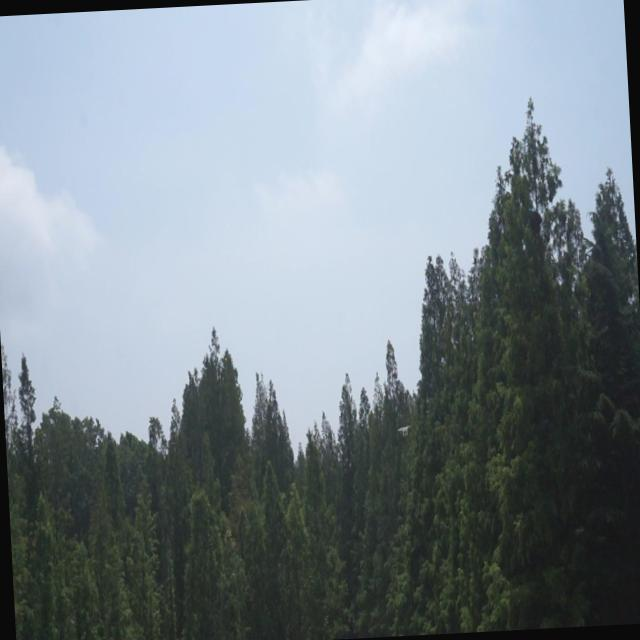drone: (397, 421, 412, 438)
